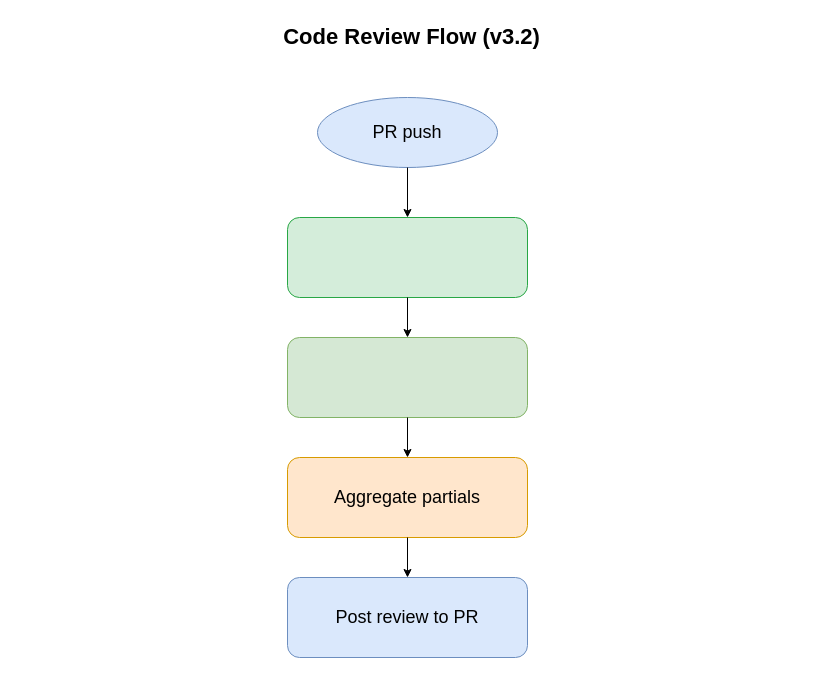
The diagram is 821 pixels wide and 675 high, and some of its shapes have lost their labels. Each missing label, with the centre of its shape:
"Enumerate files" goes at (x=407, y=257).
"Review (matrix, per file)" goes at (x=407, y=377).
